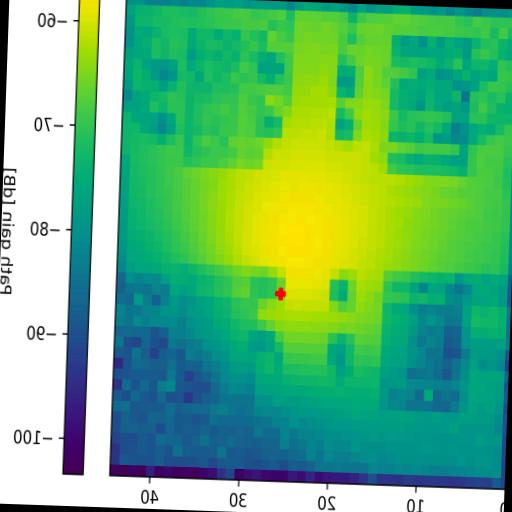Concrete: (181, 28, 266, 170)
Glass: (385, 36, 472, 178)
Metal: (174, 264, 260, 408)
Wood: (378, 270, 471, 416)
